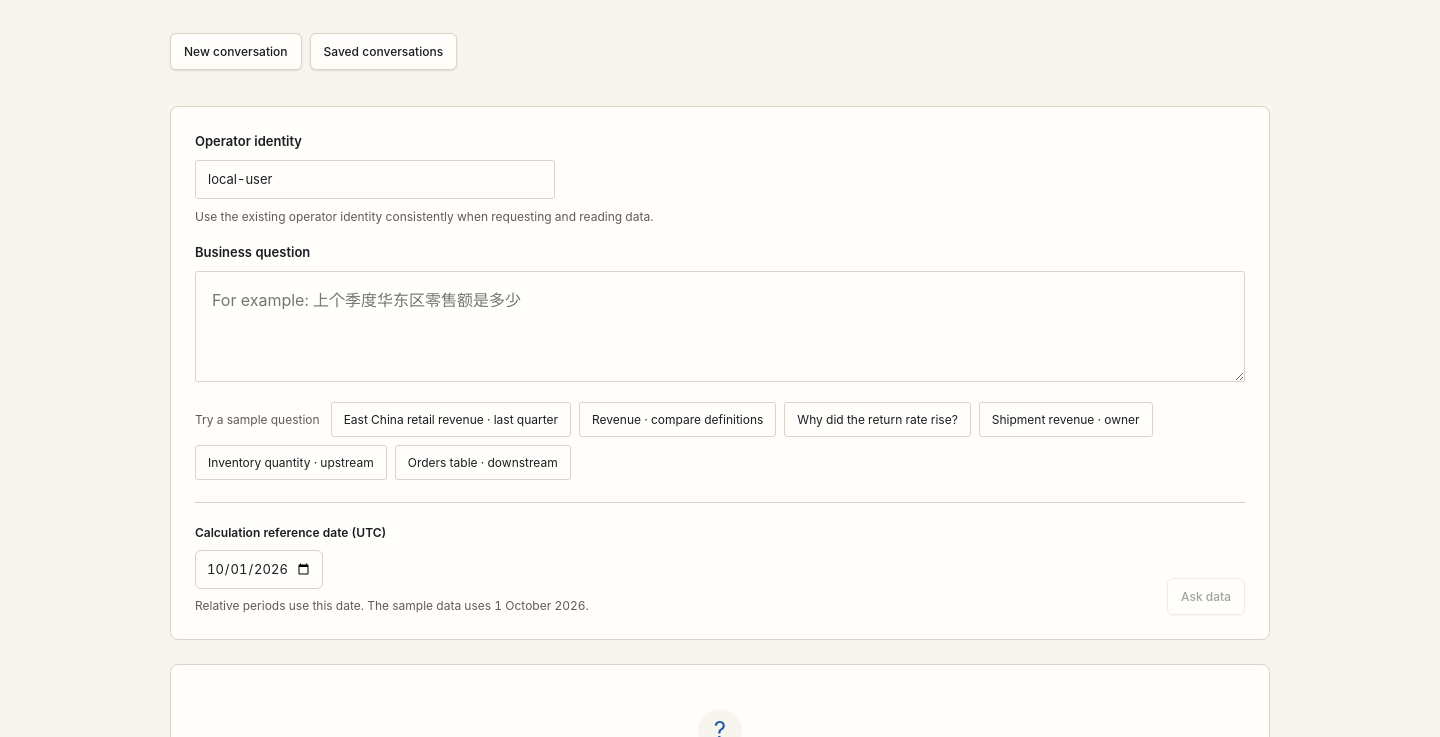
it: prevents submit and replay while a delayed conversation open is pending
The width and height of the screenshot is (1440, 737).
Type "上个季度华东区零售额是多少" into the text box labelled "Business question".
click(720, 326); type("上个季度华东区零售额是多少")  # box top-left (195, 271), bottom-right (1245, 382)
Click the button "Ask data".
click(1206, 596)  # box top-left (1167, 578), bottom-right (1245, 615)
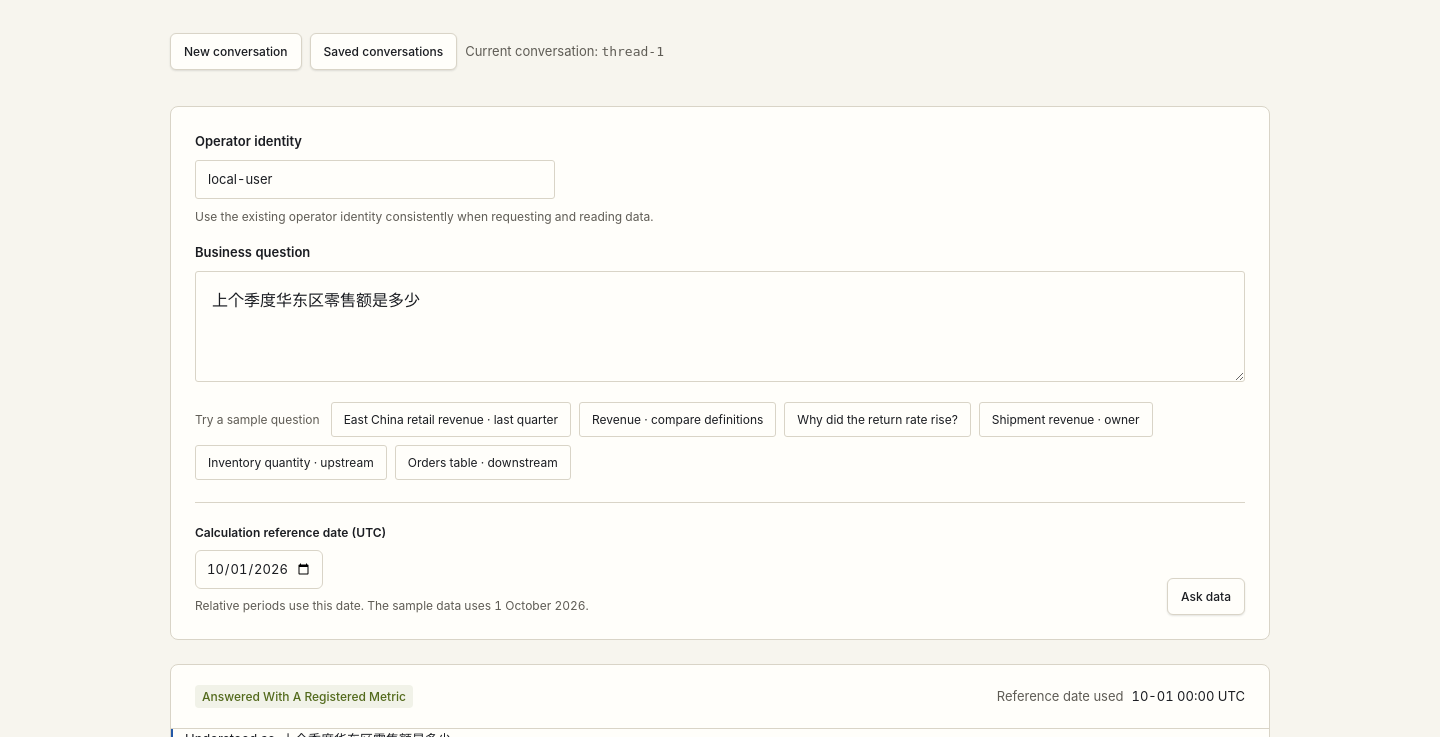
Click the button "Saved conversations".
click(383, 52)  # box top-left (310, 33), bottom-right (457, 70)
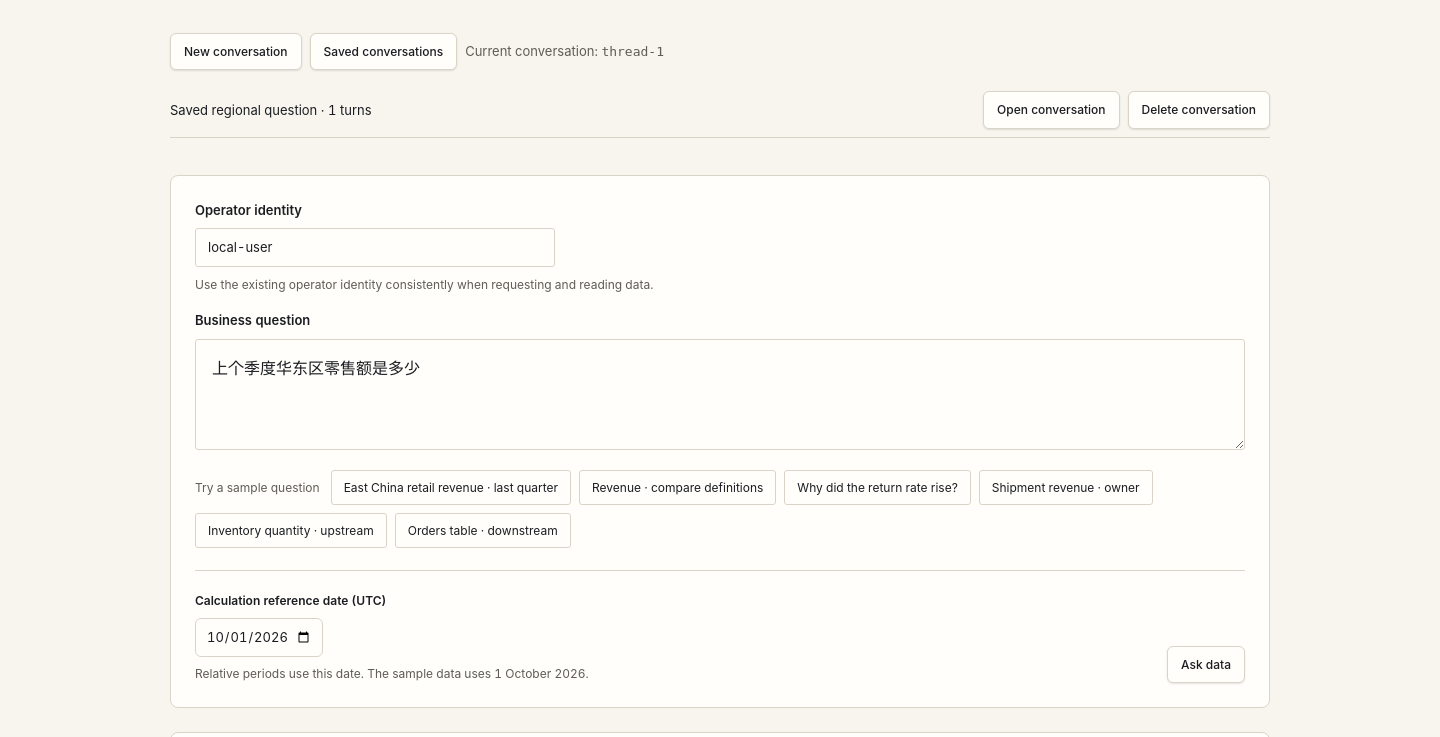
Click the button "Open conversation".
click(1051, 110)  # box top-left (983, 91), bottom-right (1120, 129)
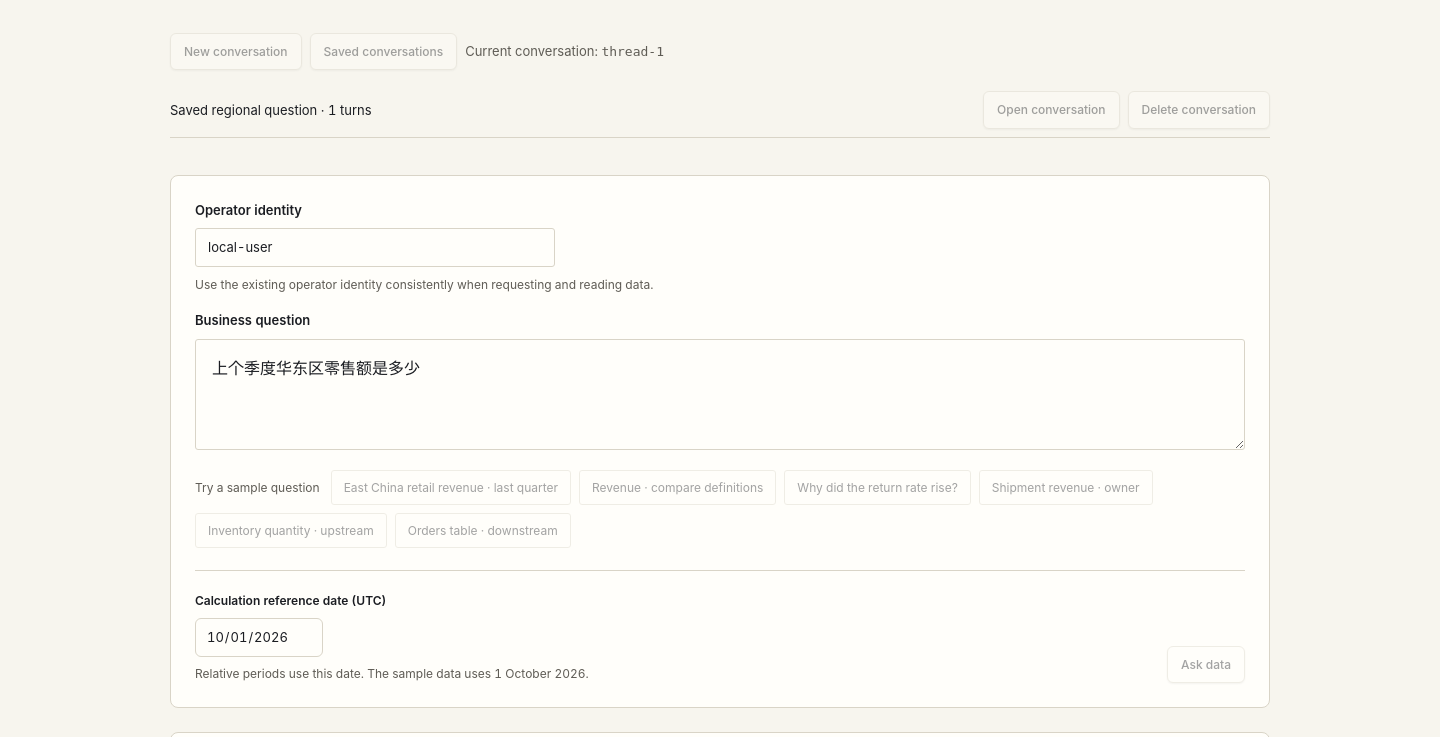
Expected: the text box labelled "Business question" is disabled, top-left (195, 339), bottom-right (1245, 450)
Expected: the button "New conversation" is disabled, top-left (170, 33), bottom-right (302, 70)
Expected: the button "Ask data" is disabled
Click the button "Ask data".
click(1206, 665)  # box top-left (1167, 646), bottom-right (1245, 683)
(page scrolled)
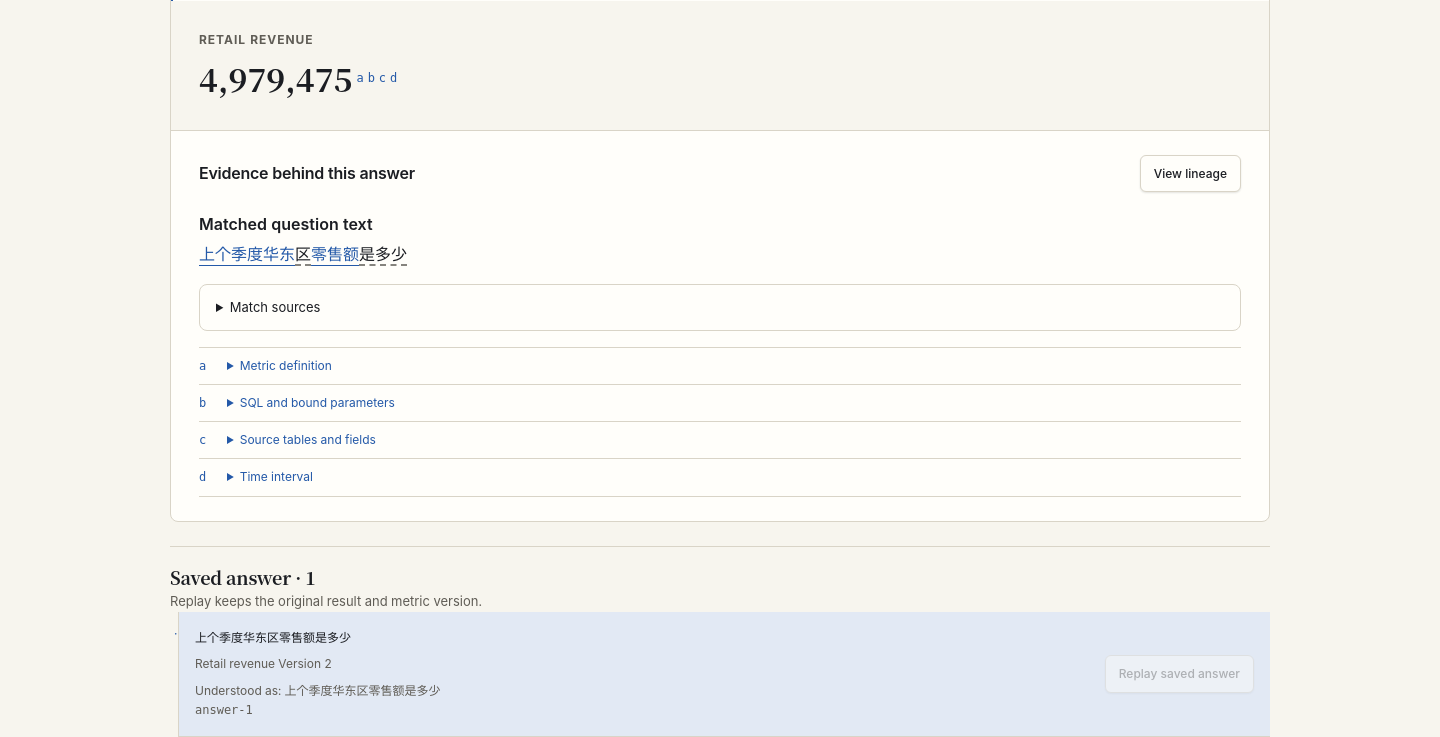
Click the button "Replay saved answer".
click(1179, 674)  # box top-left (1105, 656), bottom-right (1254, 693)
(page scrolled)
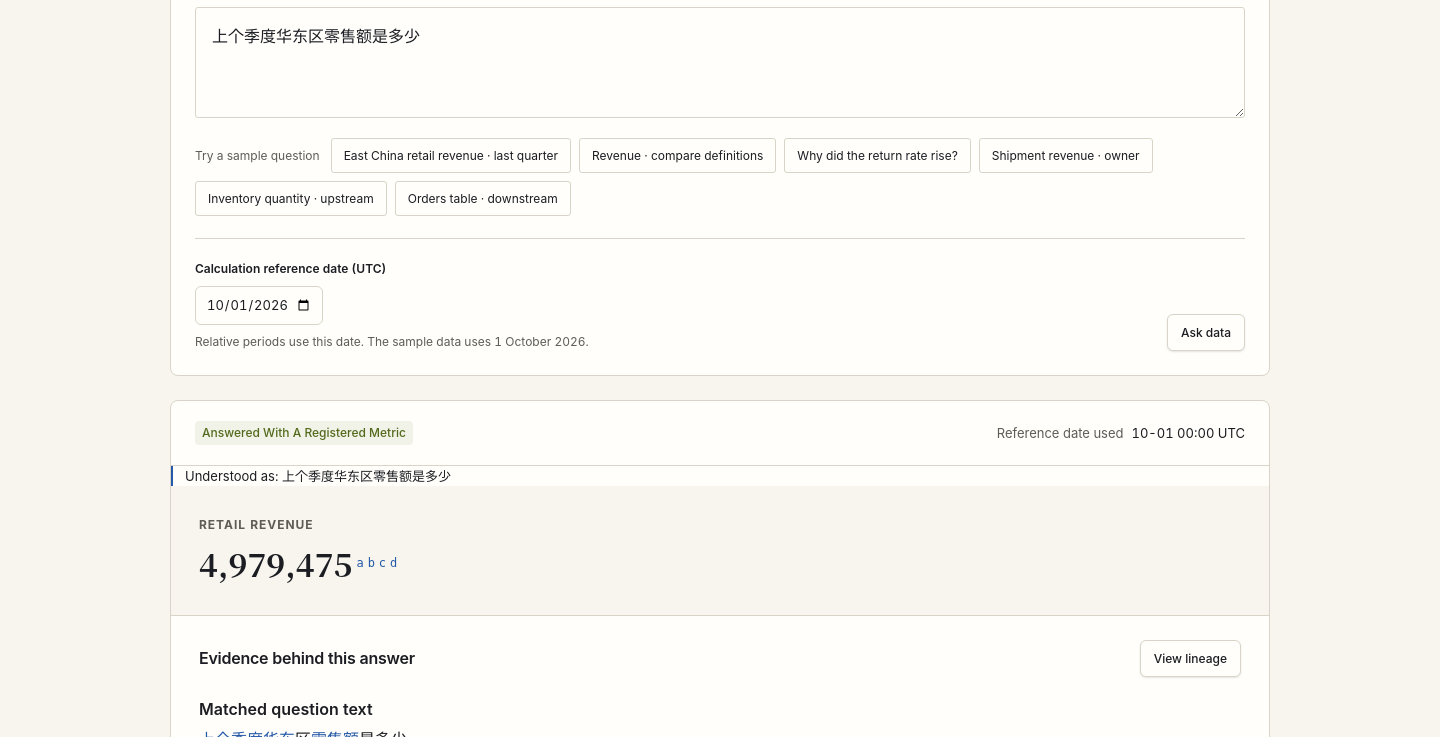
Expected: the button "Ask data" is enabled
Click the button "Ask data".
click(1206, 333)  # box top-left (1167, 314), bottom-right (1245, 351)
(page scrolled)
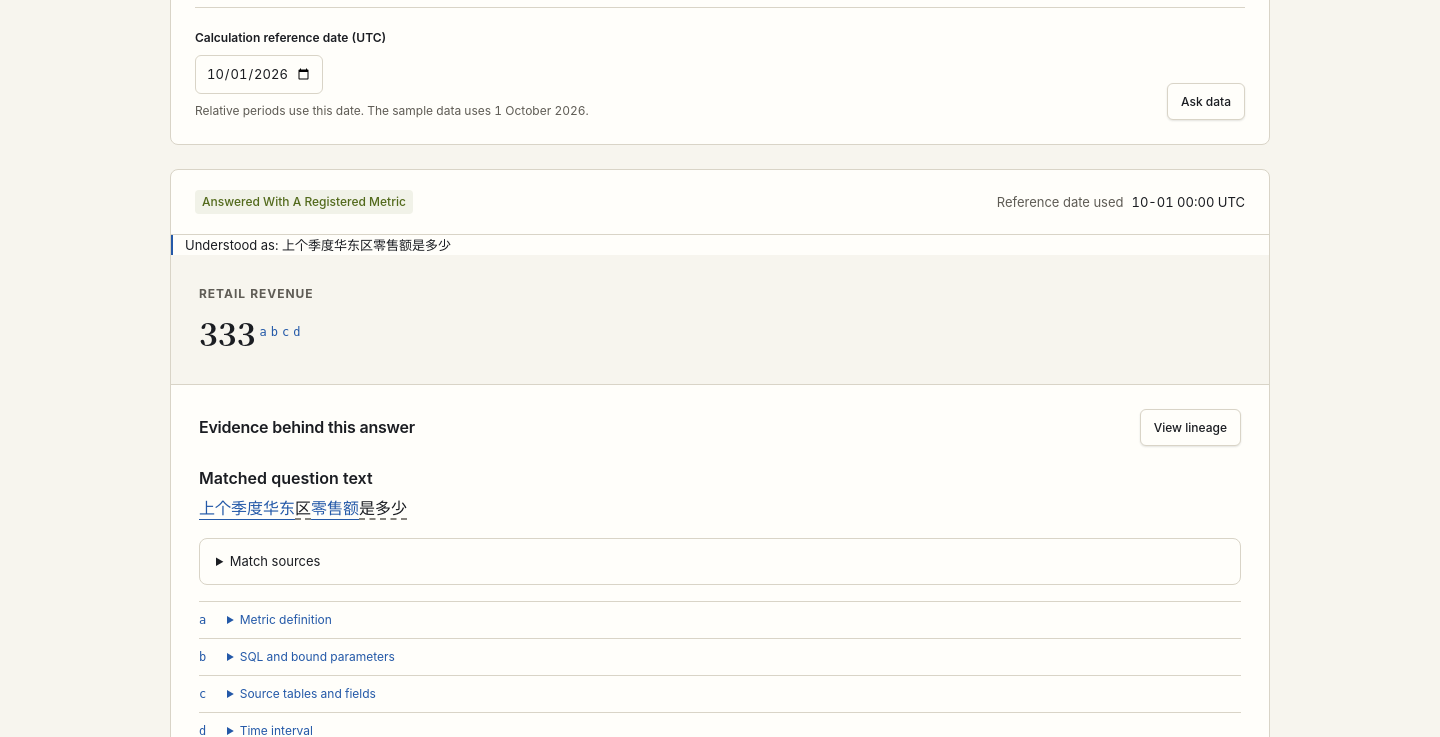
Expected: the text named "Calculated result" reads "333", top-left (199, 309), bottom-right (256, 355)
